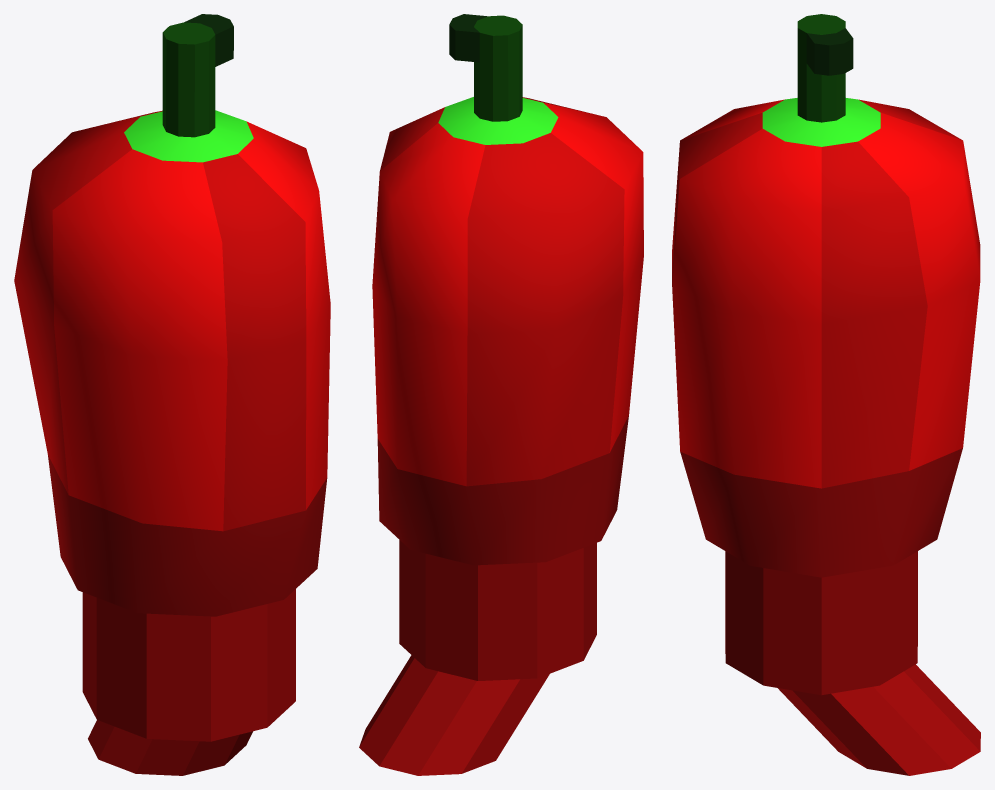
Rendered from CILI.FBX.
3 views of the same model, side by side, from view 1: azimuth 30°, elevation 25°; view 2: azimuth 150°, elevation 25°; view 3: azimuth 270°, elevation 25° (orthographic). The views are drawn at different scales.
Visible parts, largest first — view 1: Cylinder003; view 2: Cylinder003; view 3: Cylinder003.
Part boxes in pixels (x1=…): Cylinder003: x1=14, y1=14, x2=330, y2=775; Cylinder003: x1=359, y1=14, x2=643, y2=775; Cylinder003: x1=672, y1=14, x2=980, y2=775.
Size of the model in its own units: 104 by 288 by 114.
